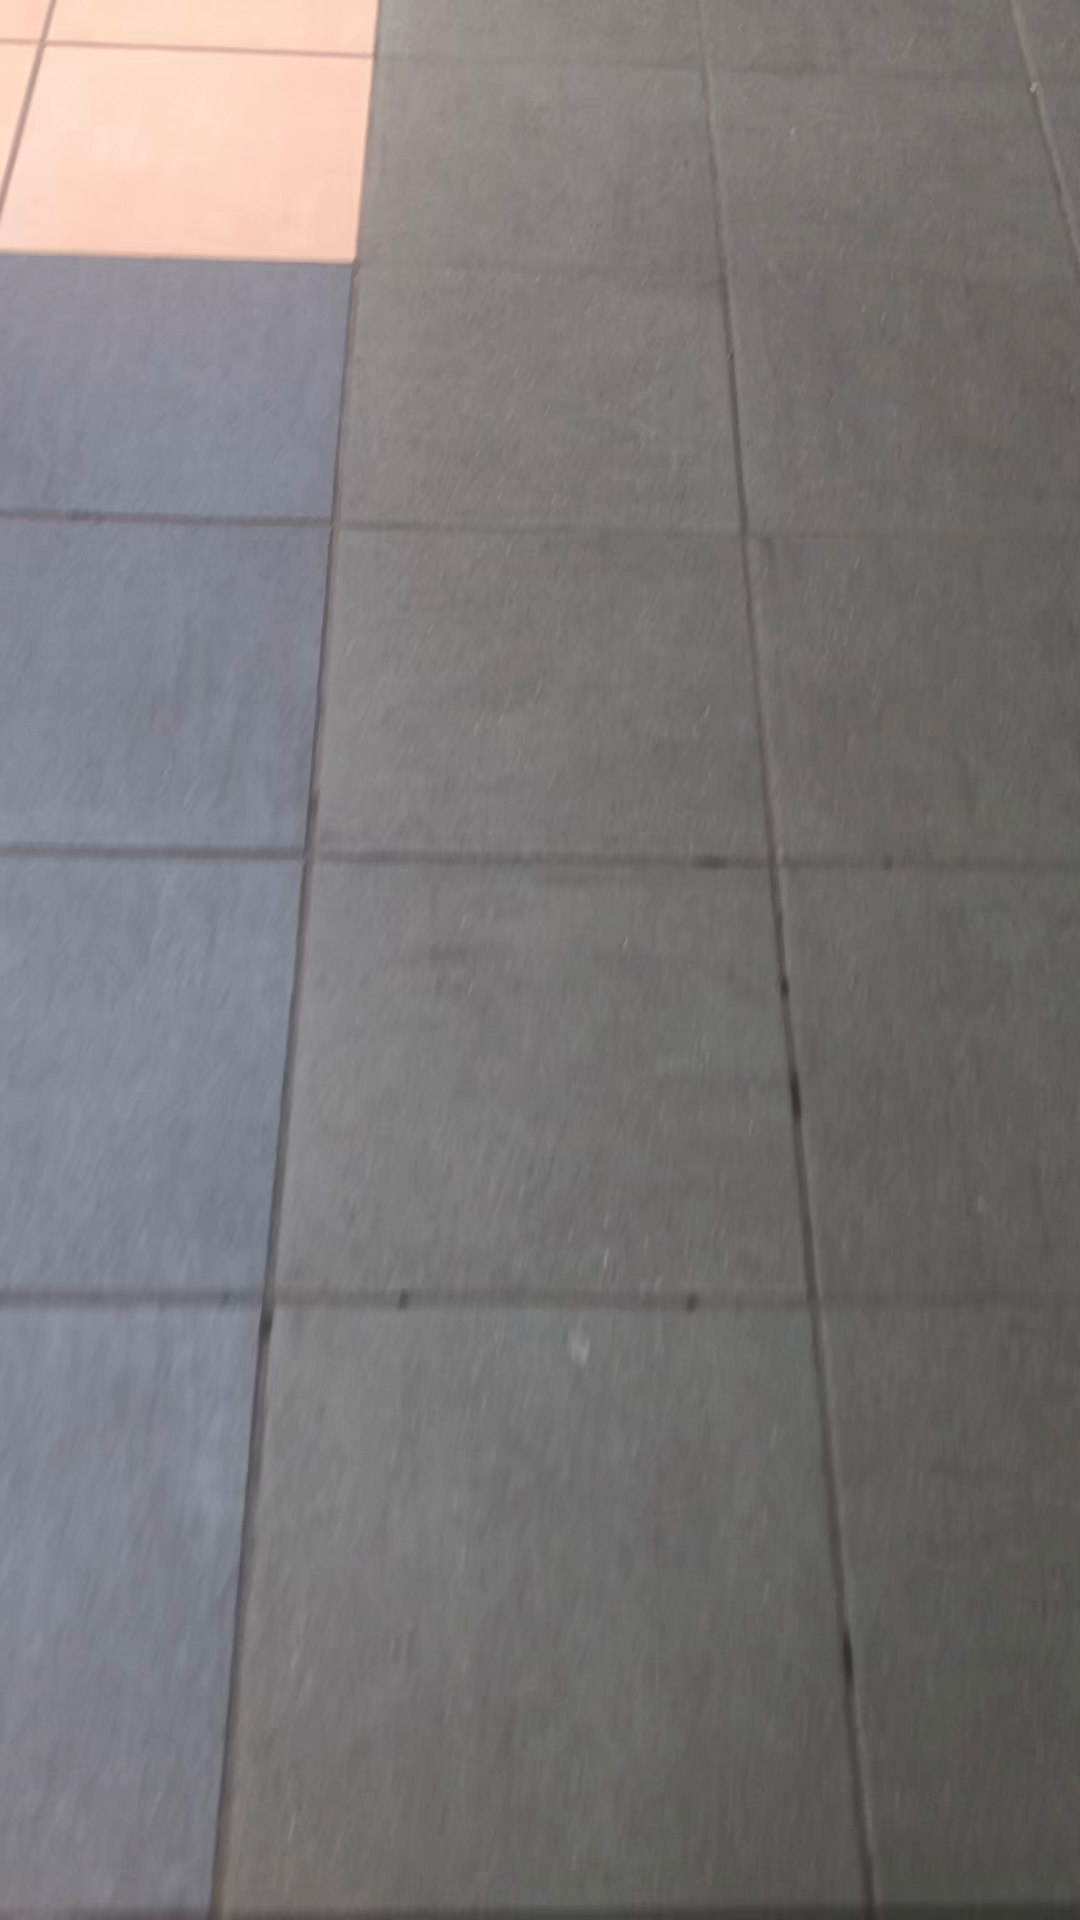Stain: (363, 1261, 717, 1335), (767, 938, 833, 1151), (829, 1588, 873, 1698)
